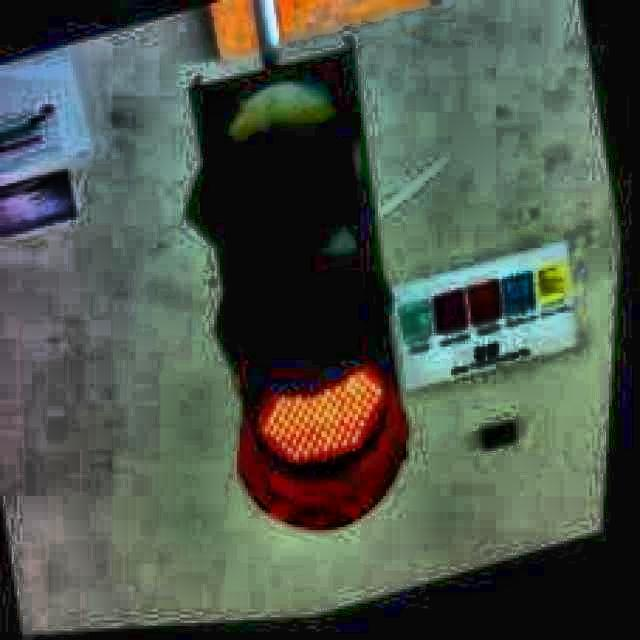red: (195, 69, 406, 517)
